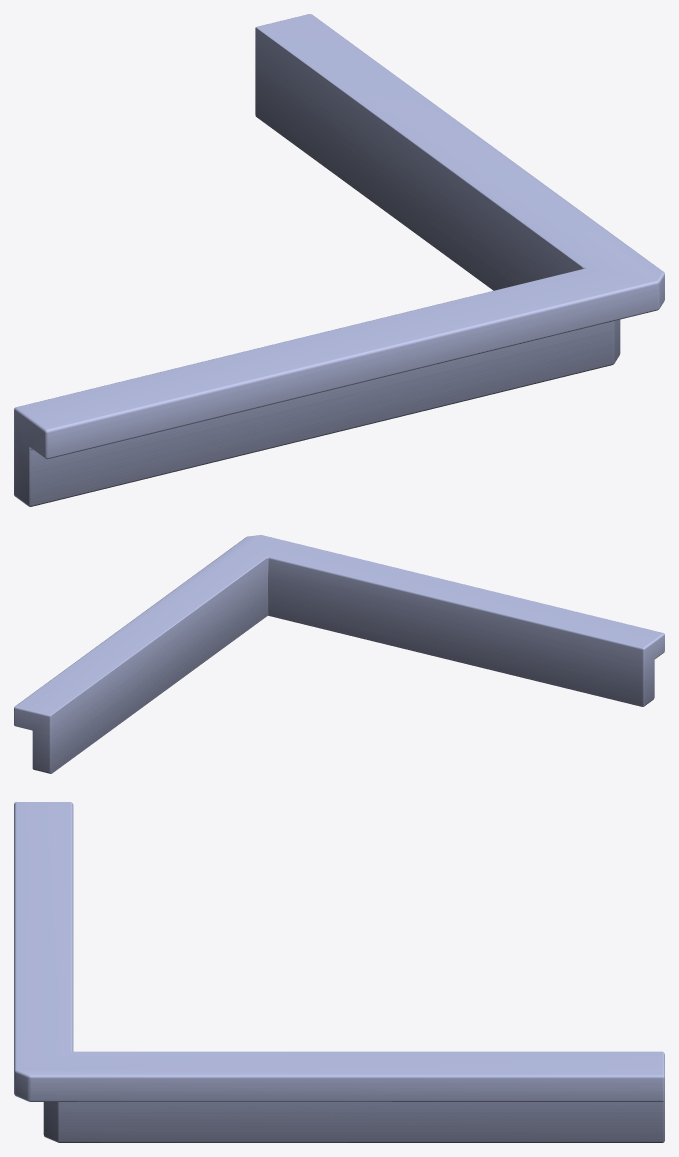
Rendered from border-corner.glb.
3 views of the same model, one above another, from view 1: azimuth 30°, elevation 25°; view 2: azimuth 150°, elevation 25°; view 3: azimuth 270°, elevation 25° (orthographic). The views are drawn at different scales.
Visible parts, largest first — view 1: border-corner; view 2: border-corner; view 3: border-corner.
Boxes of the visible parts, x1,y1,x2,y2 form: border-corner: (14,14,664,506); border-corner: (14,535,664,773); border-corner: (14,802,664,1142).
Size of the model in its own units: 2.2 by 0.3 by 2.2.
Materials: 1 (1 with a texture image).
